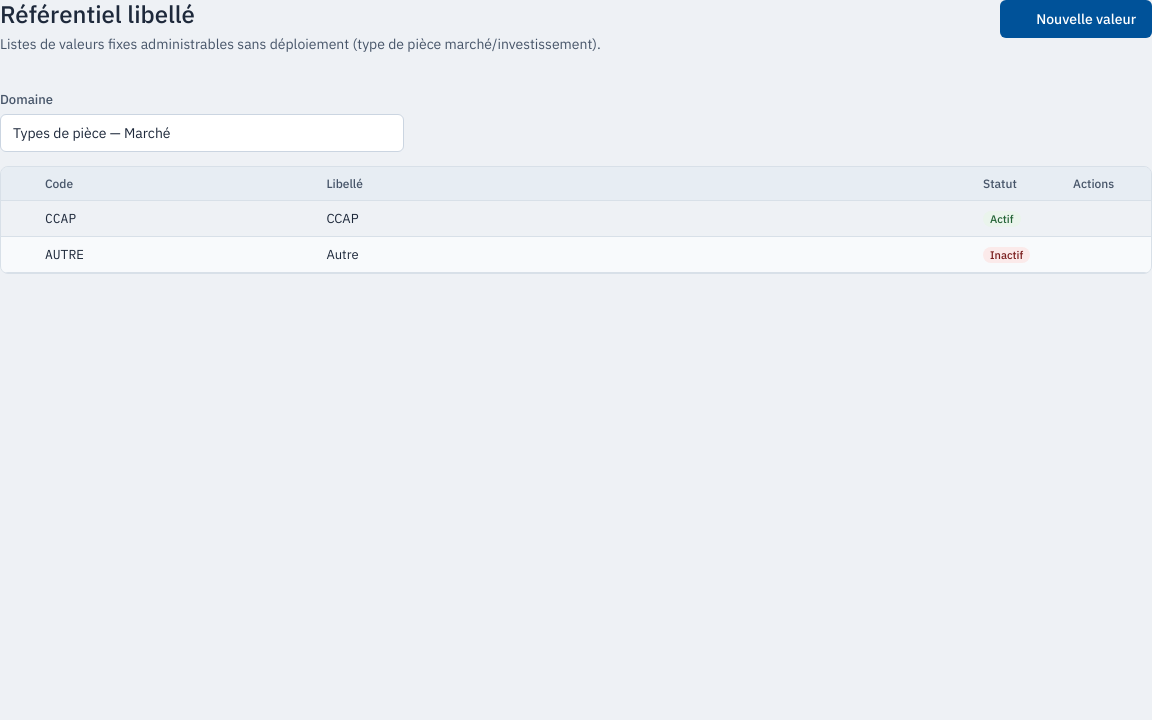
Scenario: LibelleReferentiel › création : envoie domaine/code/libellé/actif via POST (pas d'ordre, position 0 puis glisser-déposer)
Click the button "Nouvelle valeur" at point(1076, 19), box [1000,0,1151,38]
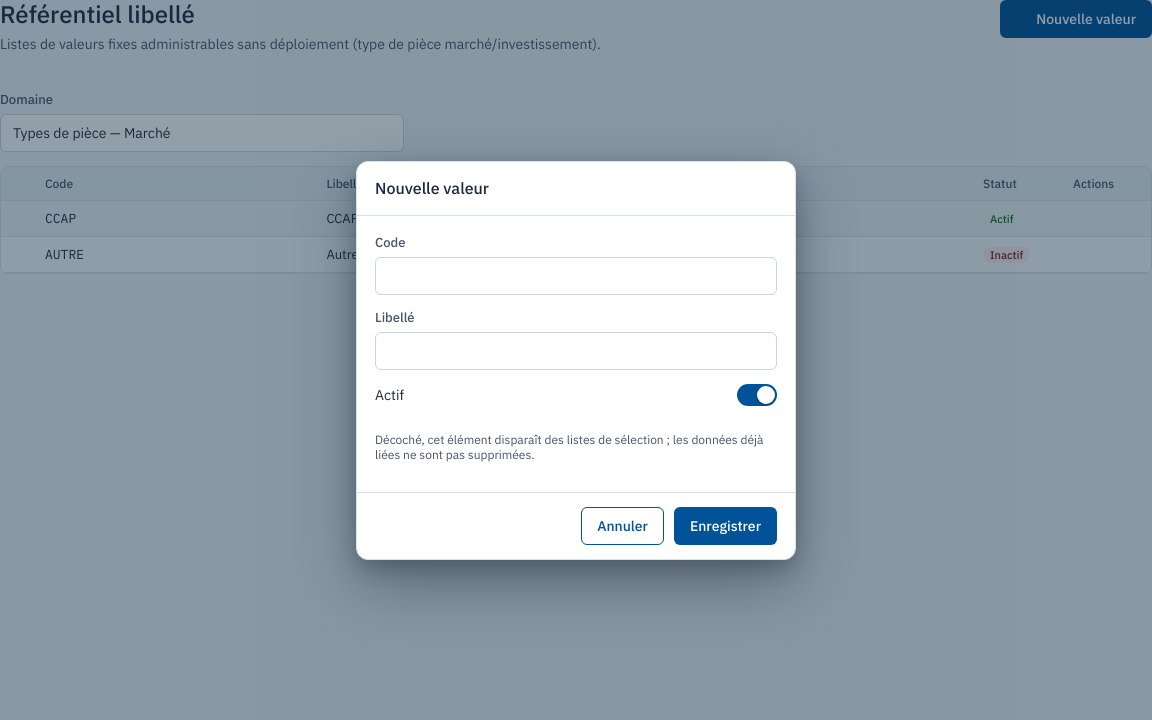
Type "DEVIS" into the field labelled "Code" at point(576, 276), box [375,256,777,294]
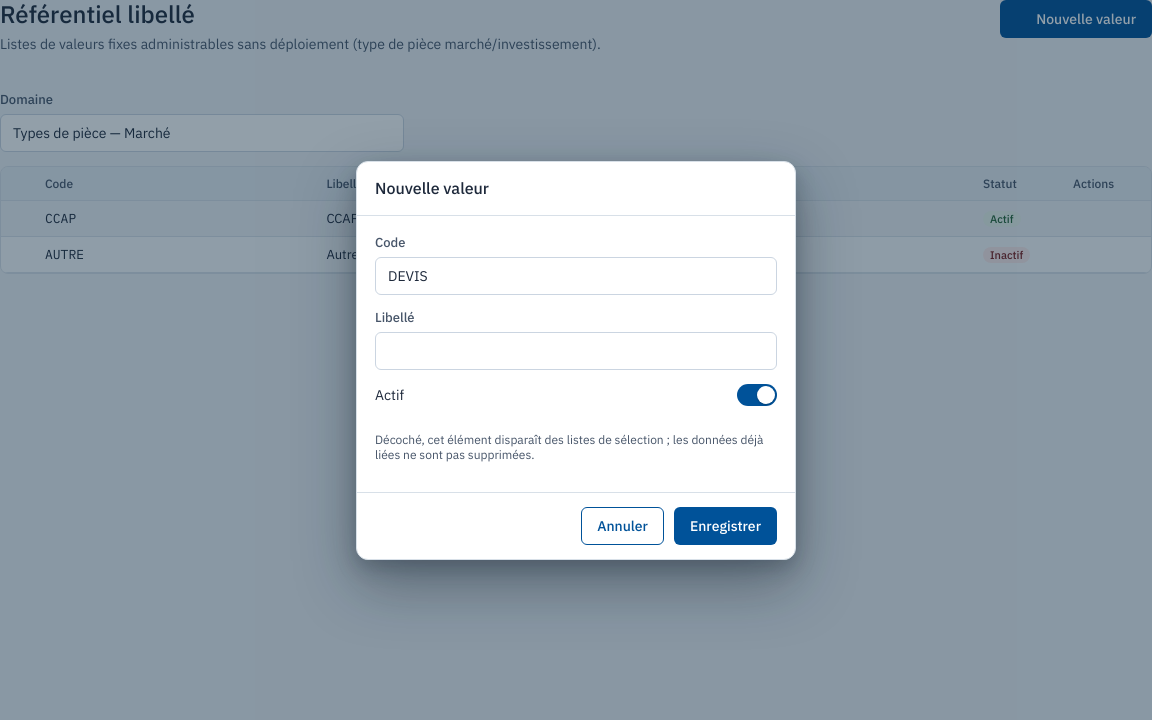
Type "Devis" into the field labelled "Libellé" at point(576, 350), box [375,332,777,370]
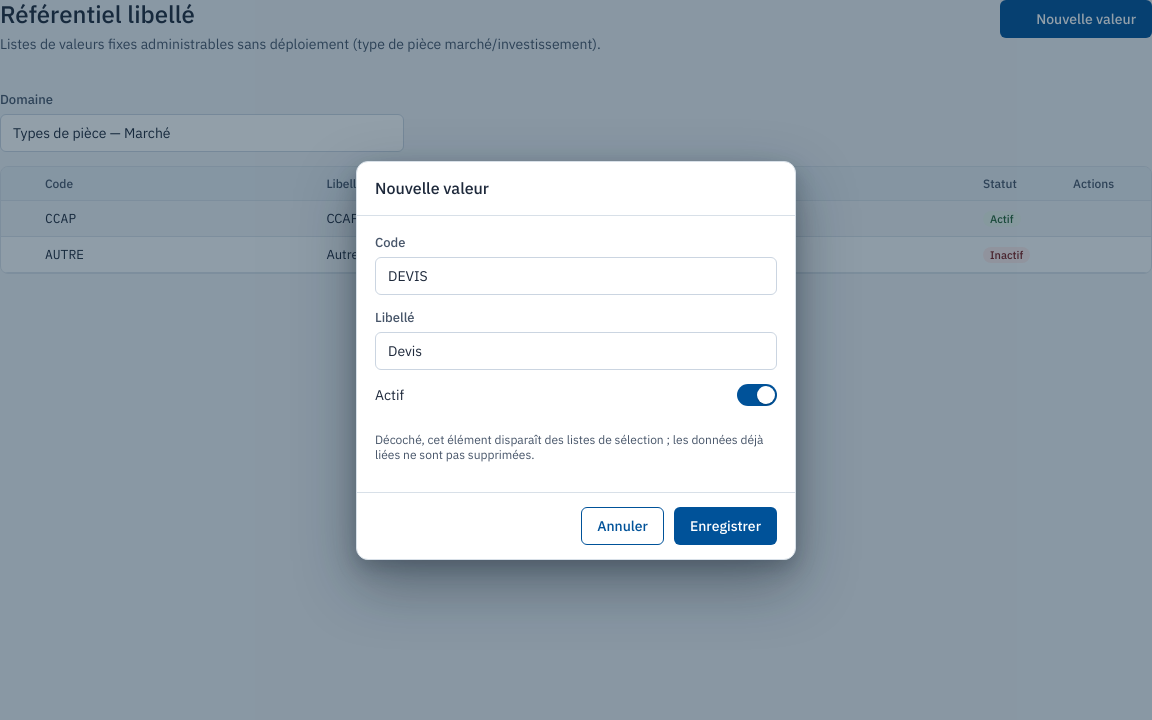
Click the button "Enregistrer" at point(725, 526), box [674,506,777,544]
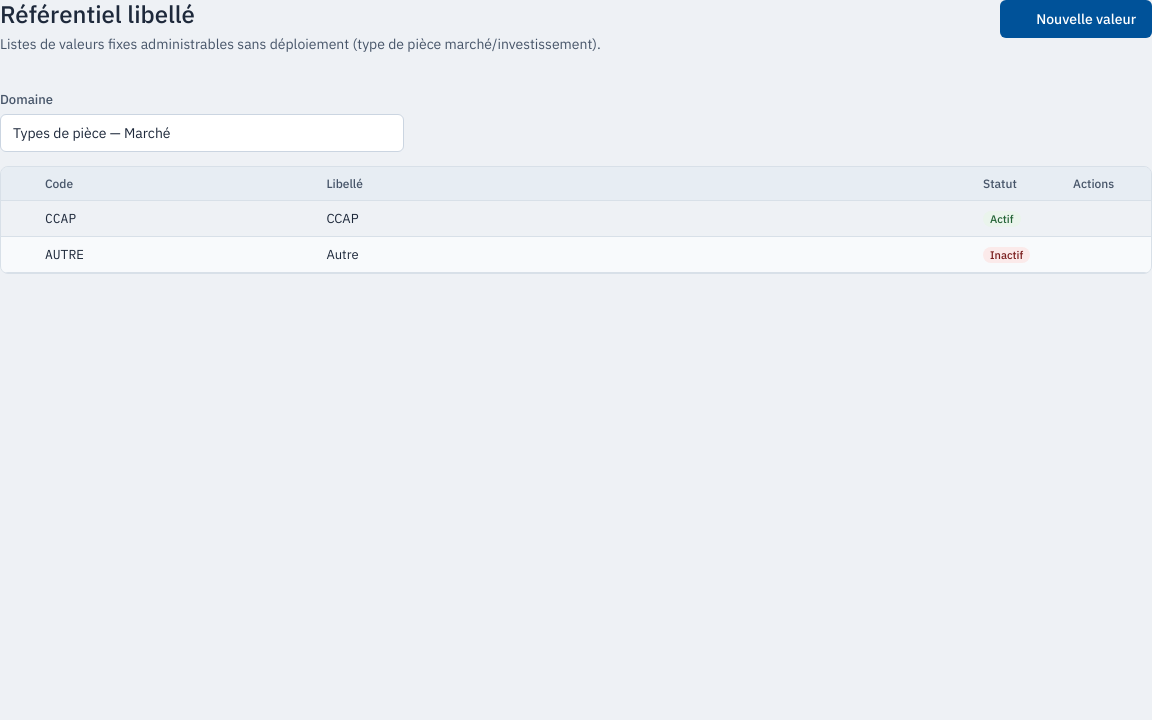
Now the dialog is gone
